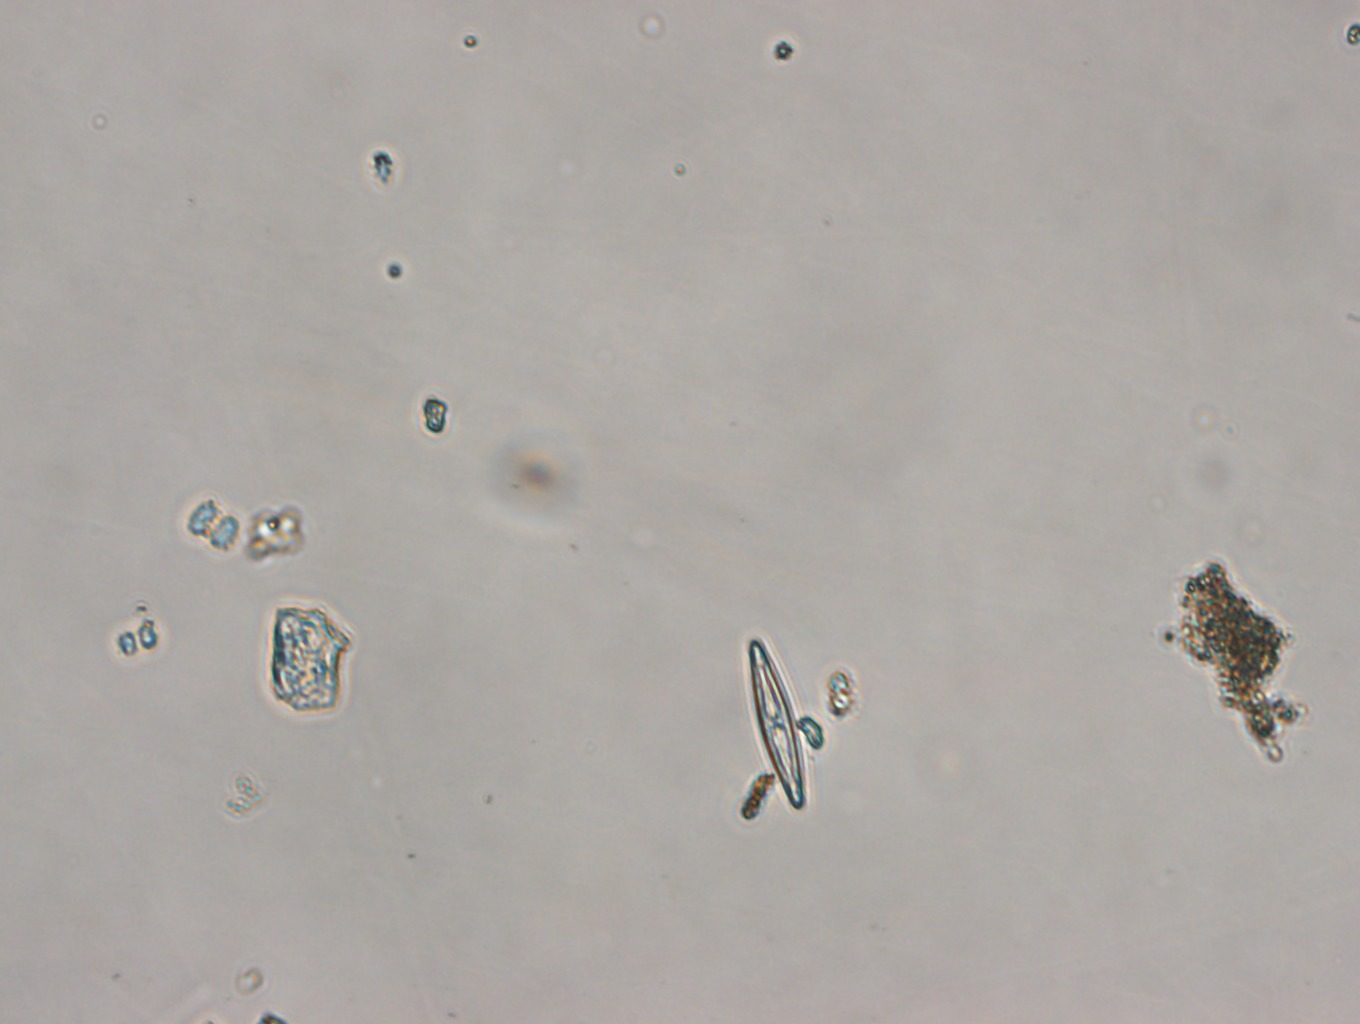dinophysis caudata: (1178, 554, 1309, 774)
navicula: (740, 635, 815, 813)
